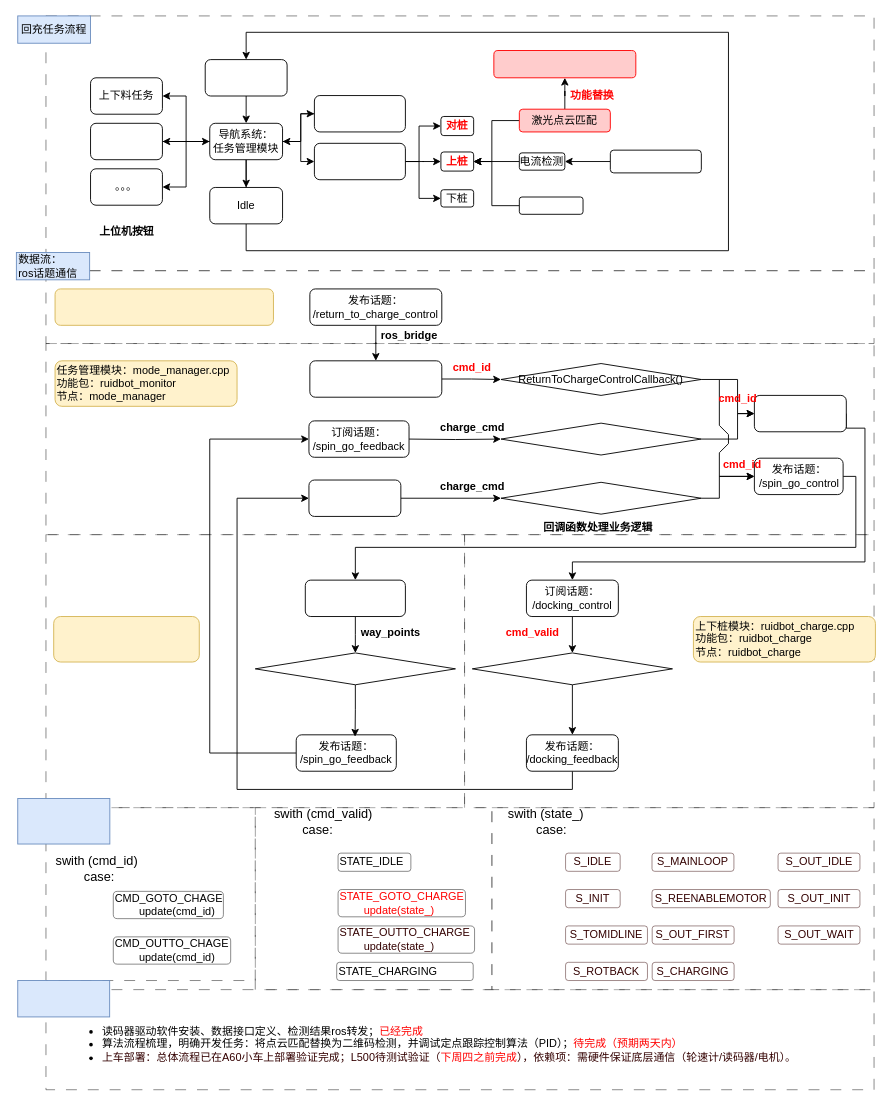
This 891x1106 diagram has some shape labels left out. Each missing label, with the centre of its shape:
DockingFeedbackCallback(): pixel 600 497
ReturnChargeControlCallback(): pixel 571 668
spin_go_execute(): pixel 354 668
SpinGoFeedbackCallback(): pixel 600 438
上下桩任务 切换: 两层事件状态机: pixel 63 821
二维码检测与定点追踪: pixel 564 64
充电桩底层硬件: pixel 655 161
发布话题： /docking_control: pixel 799 413
回充：局部导航， ruidbot_charge: pixel 359 161
局部里程计: pixel 550 205
开发内容与计划：: pixel 63 998
订阅话题： /docking_feedback: pixel 354 497
订阅话题： /return_to_charge_control: pixel 375 378
订阅话题： /spin_go_control: pixel 354 598
调度系统回充任务下发：mode_manager.py 节点：mode_manager: pixel 163 306
调度系统： 任务下发: pixel 245 77
返桩模块：spin_and_go.cpp 功能包：ruidbot_charge 节点：spin_go_control: pixel 126 639
返桩：全局导航， spin_and_go: pixel 359 113
远程控制: pixel 126 141
